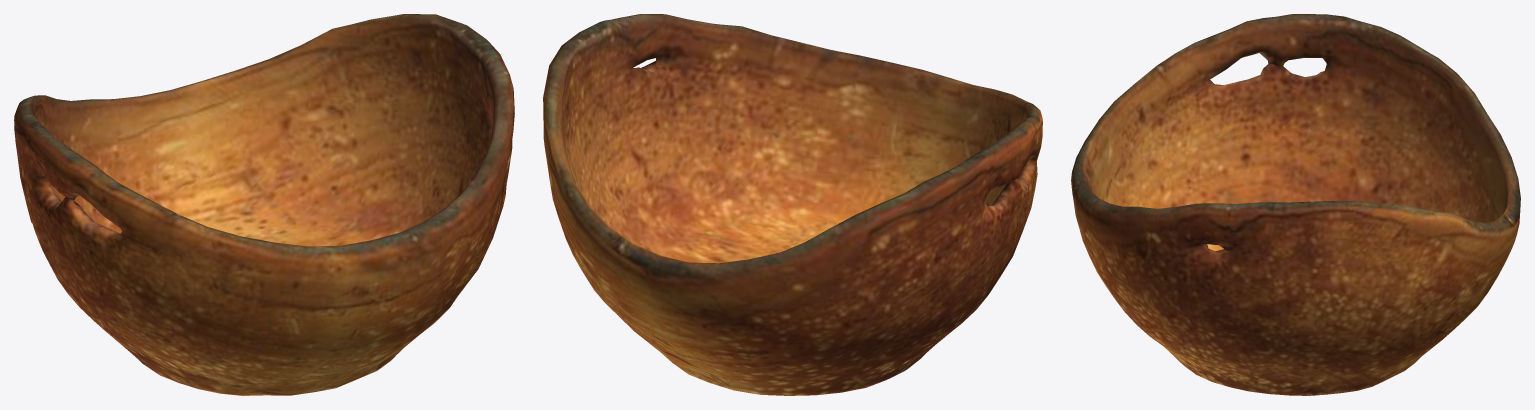
The picture shows the model from 3 angles, left to right: view 1: azimuth 30°, elevation 25°; view 2: azimuth 150°, elevation 25°; view 3: azimuth 270°, elevation 25°; orthographic projection. The views are drawn at different scales.
Parts seen in each view (by area): view 1: wooden_bowl_02; view 2: wooden_bowl_02; view 3: wooden_bowl_02.
Part boxes in pixels (x1=…): wooden_bowl_02: x1=14, y1=14, x2=514, y2=395; wooden_bowl_02: x1=543, y1=14, x2=1042, y2=395; wooden_bowl_02: x1=1071, y1=14, x2=1520, y2=395.
Size of the model in its own units: 0.1307 by 0.0731 by 0.1245.
1 material, 1 textured.
